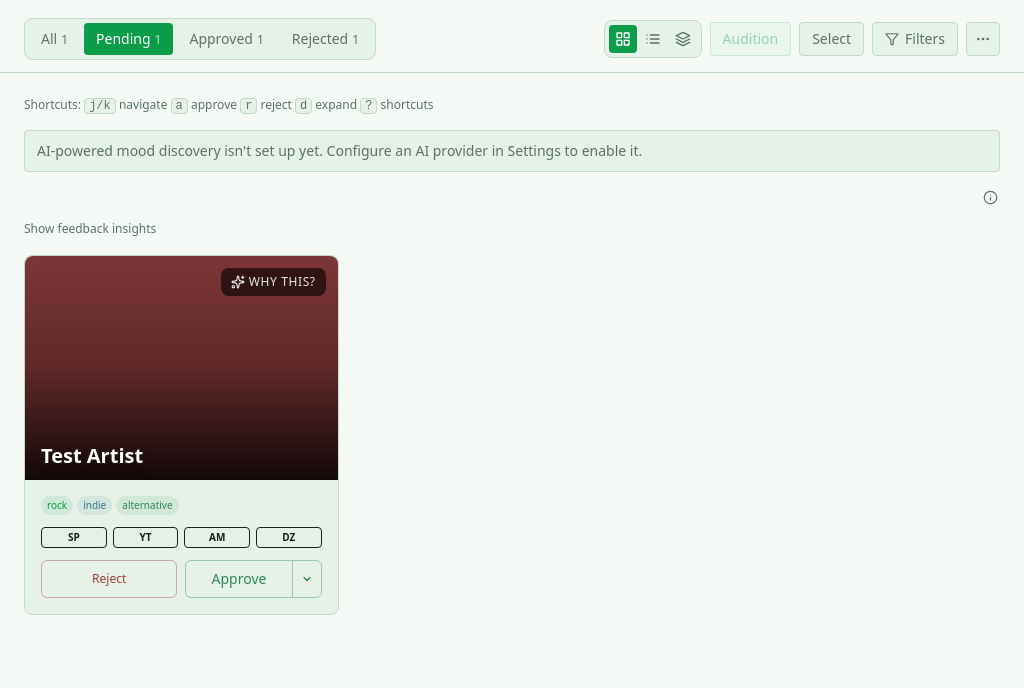
Scenario: DiscoverPage › clicking a card expands it
Click the heading "Test Artist": (92, 456) [41,442,143,469]
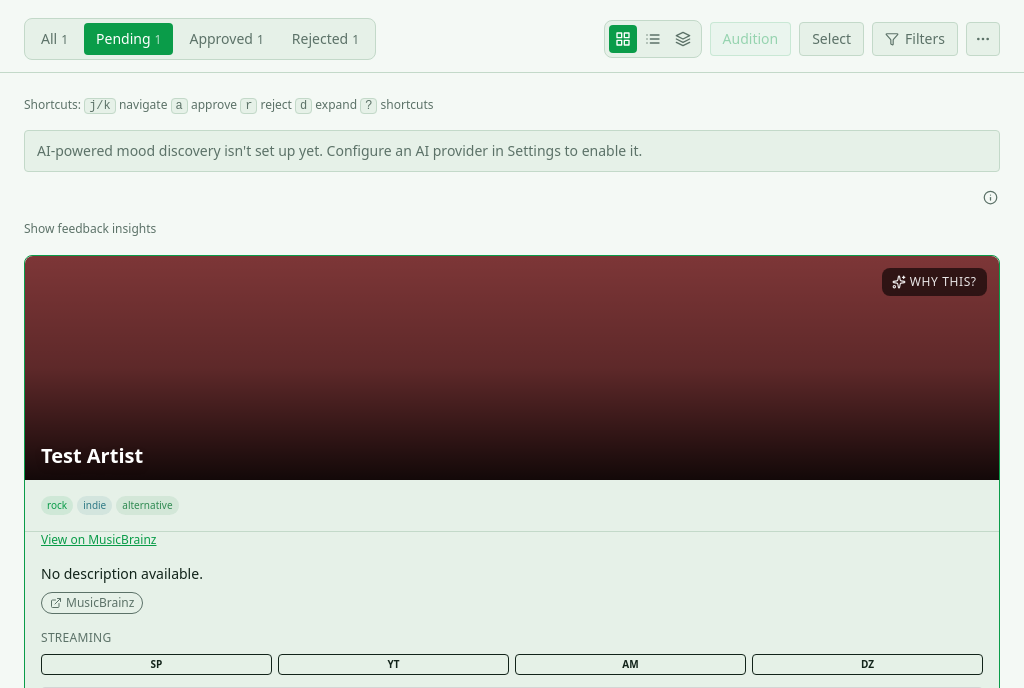
Click the button "Why this?": (935, 282) [882,268,987,296]
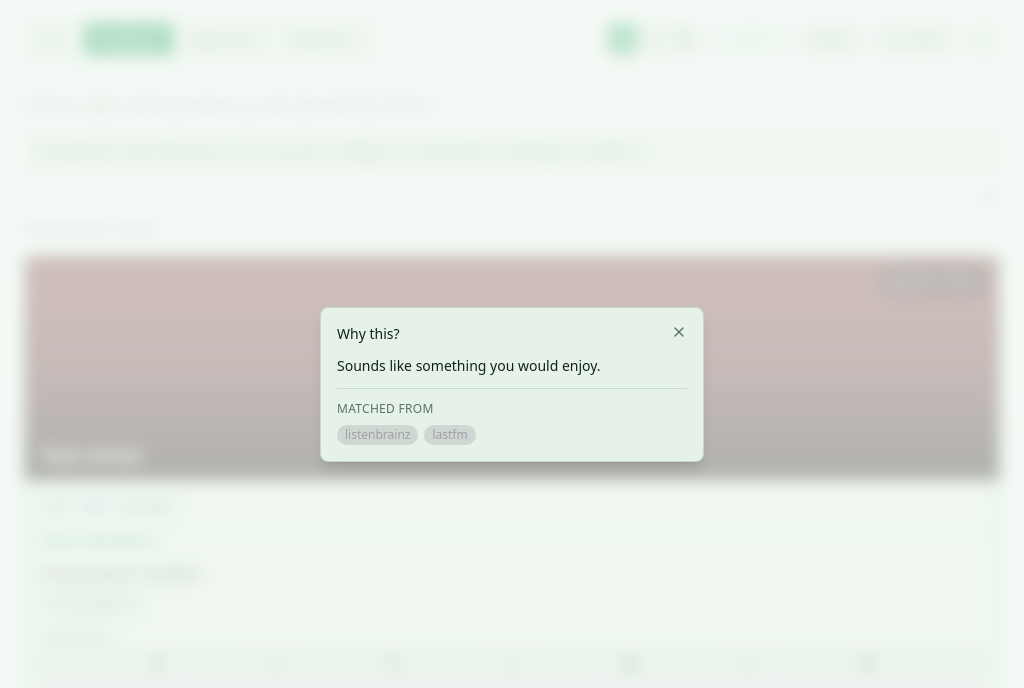
Check: the text "Sounds like something you would enjoy." is shown, box [337,356,601,374]
